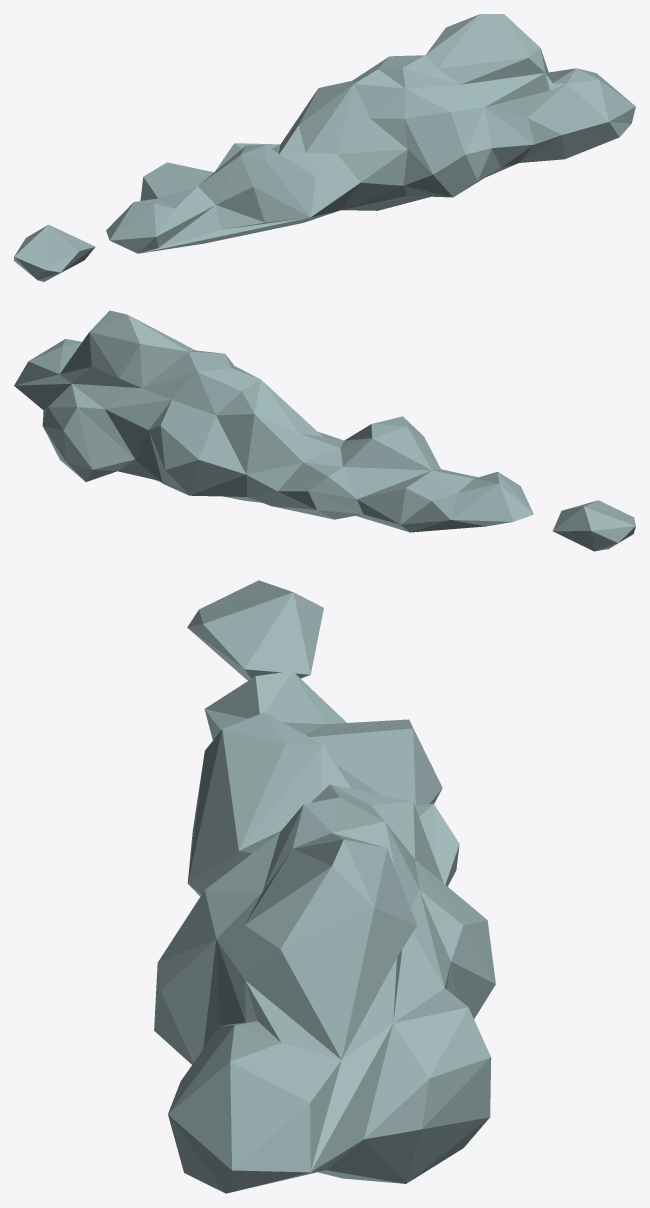
Rendered from SM_Env_Cloud_01.glb.
3 renders of one model, top to bottom at view 1: azimuth 30°, elevation 25°; view 2: azimuth 150°, elevation 25°; view 3: azimuth 270°, elevation 25°, orthographic. The views are drawn at different scales.
Parts seen in each view (by area): view 1: SM_Env_Cloud_01; view 2: SM_Env_Cloud_01; view 3: SM_Env_Cloud_01.
Part boxes in pixels (left/top/right/bottom): SM_Env_Cloud_01: left=14, top=14, right=635, bottom=281; SM_Env_Cloud_01: left=14, top=310, right=635, bottom=551; SM_Env_Cloud_01: left=154, top=580, right=495, bottom=1193.
Bounding box in the file's own units: 0.6678 × 0.1651 × 0.1608.
